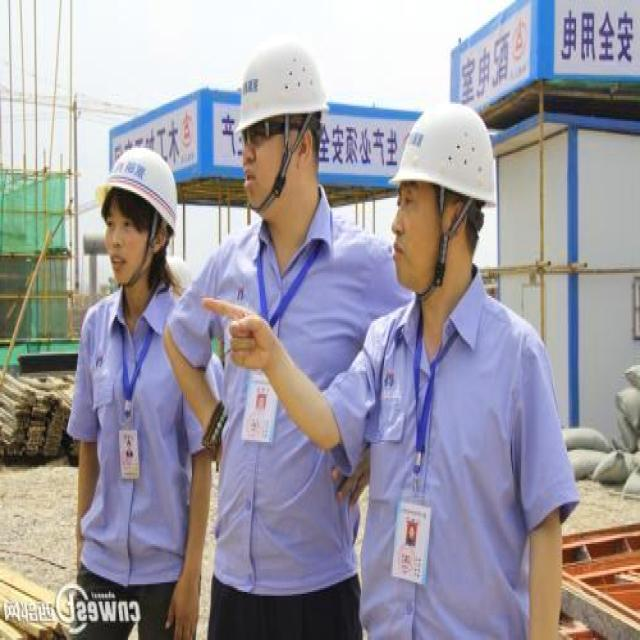face_nomask: (388, 184, 442, 298), (237, 121, 292, 215), (101, 198, 150, 292)
hand_noglove: (200, 300, 286, 369), (164, 572, 205, 640)
head_helmet: (394, 106, 498, 206), (239, 58, 331, 138), (95, 150, 183, 207)
person: (205, 68, 363, 608), (370, 104, 517, 640), (73, 158, 198, 634)
